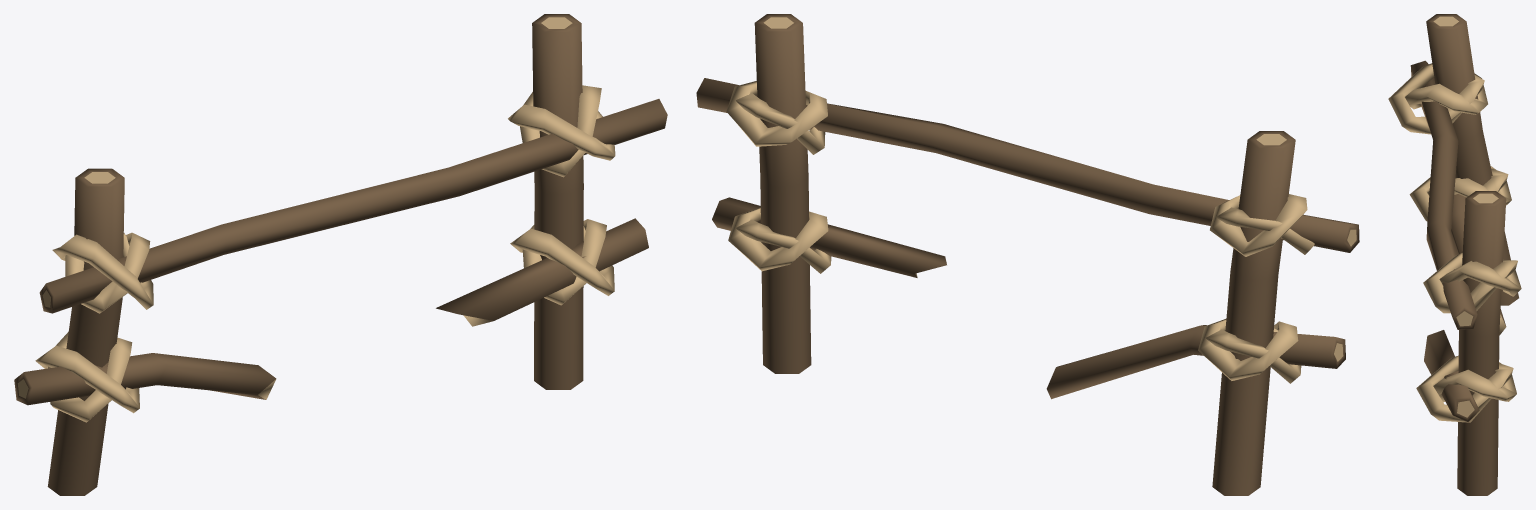
The model's file is rpgpp_av_fence_01d_2m.gltf.
3 views of the same model, side by side, from view 1: azimuth 30°, elevation 25°; view 2: azimuth 150°, elevation 25°; view 3: azimuth 270°, elevation 25° (orthographic). The views are drawn at different scales.
Parts seen in each view (by area): view 1: rpgpp_av_fence_01d_2m; view 2: rpgpp_av_fence_01d_2m; view 3: rpgpp_av_fence_01d_2m.
Boxes of the visible parts, x1,y1,x2,y2 form: rpgpp_av_fence_01d_2m: (14, 14, 667, 495); rpgpp_av_fence_01d_2m: (696, 14, 1359, 495); rpgpp_av_fence_01d_2m: (1388, 14, 1521, 495).
Size of the model in its own units: 0.0284 by 0.0148 by 0.00614.
Materials: 1 (1 with a texture image).
